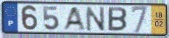5: (42, 6, 61, 32)
6: (20, 4, 39, 32)
7: (130, 5, 149, 34)
A: (61, 6, 87, 31)
B: (107, 6, 128, 33)
N: (85, 5, 107, 33)
